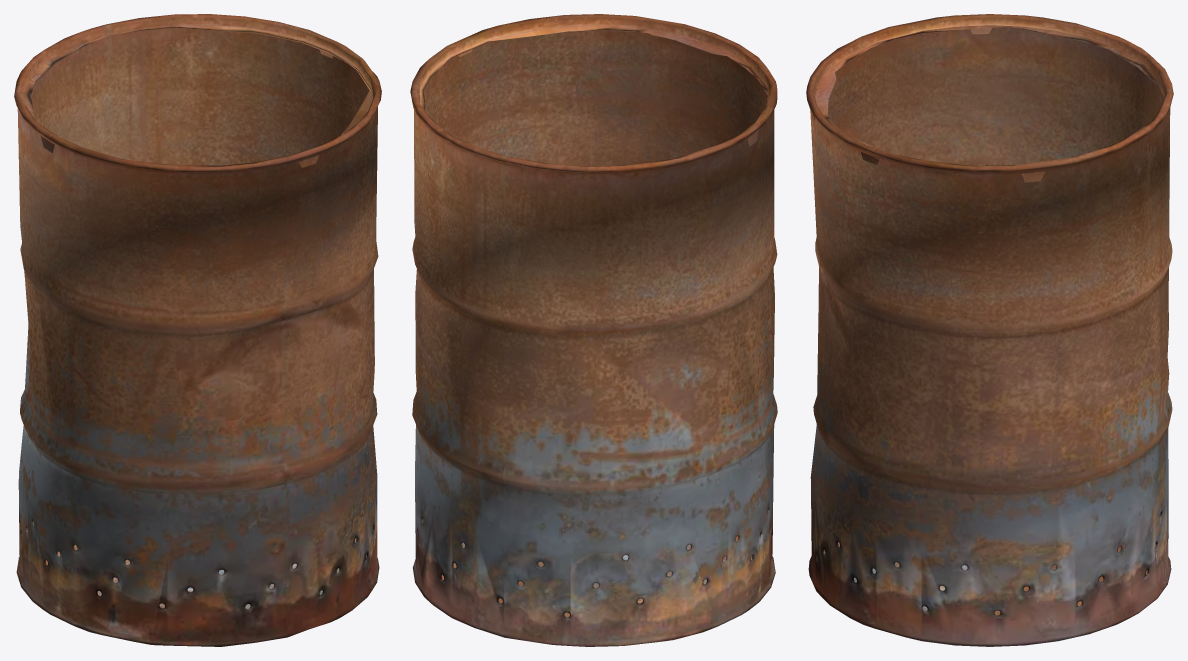
The model's file is barrel_stove.glb.
3 views of the same model, side by side, from view 1: azimuth 30°, elevation 25°; view 2: azimuth 150°, elevation 25°; view 3: azimuth 270°, elevation 25° (orthographic).
Visible parts, largest first — view 1: barrel_stove; view 2: barrel_stove; view 3: barrel_stove.
Boxes of the visible parts, box(x1,y1,x2,y2) form: barrel_stove: box(14, 14, 381, 646); barrel_stove: box(410, 14, 777, 646); barrel_stove: box(806, 14, 1173, 646).
Bounding box in the file's own units: 0.5901 × 0.8556 × 0.5925.
Materials: 1 (1 with a texture image).
